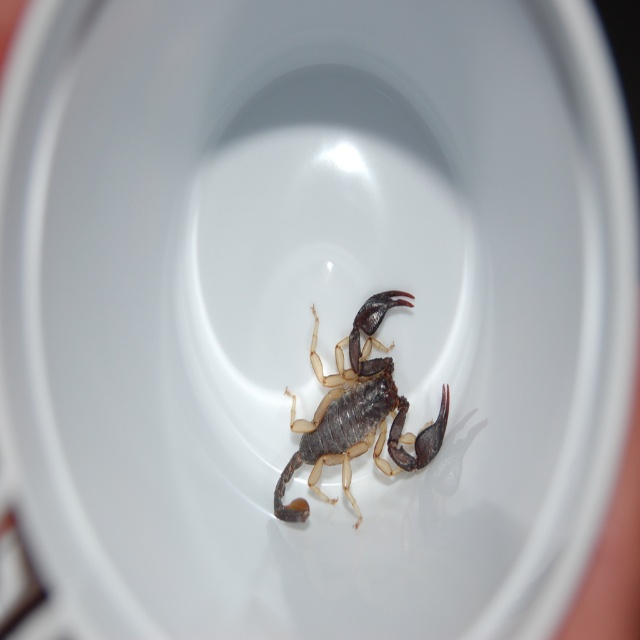Scorpion: (274, 290, 450, 531)
